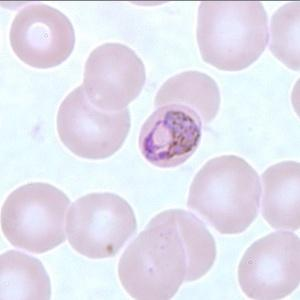Infected: (137, 105, 202, 167)
Uninfected: (186, 154, 262, 235), (118, 215, 186, 300), (57, 83, 132, 158), (143, 209, 217, 281), (1, 181, 74, 253), (196, 0, 268, 69), (66, 192, 137, 257), (8, 1, 75, 68), (154, 68, 222, 131), (83, 41, 145, 110), (239, 230, 300, 300)
